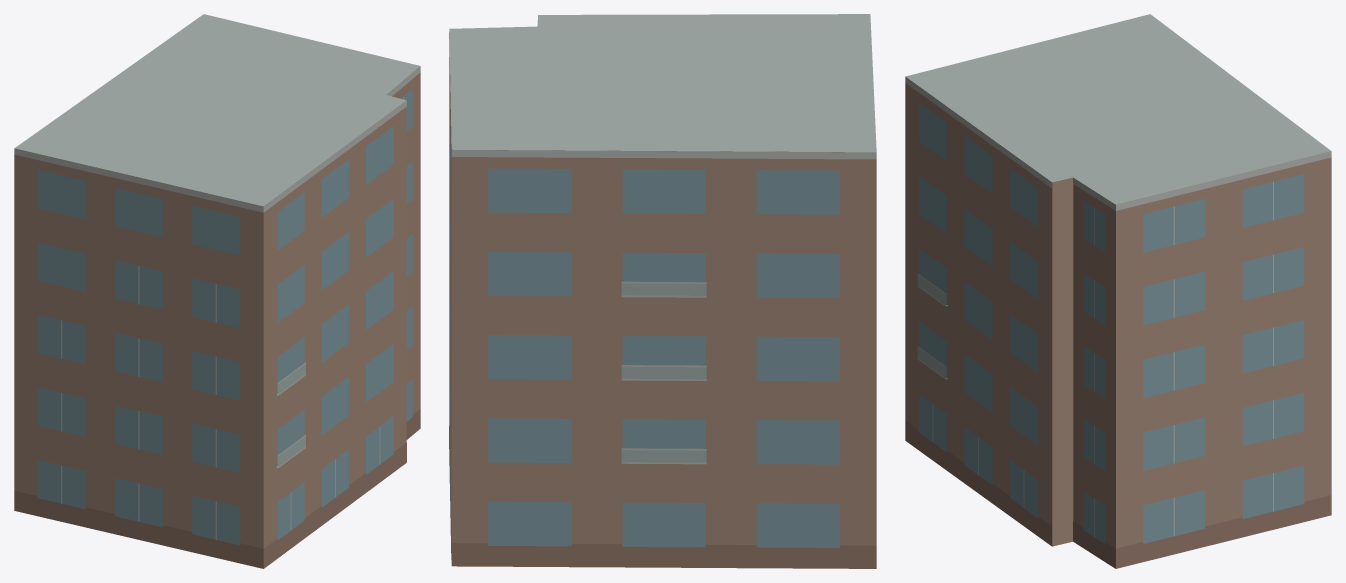
File: survey-upis-32856333.glb
3 renders of one model, left to right at view 1: azimuth 30°, elevation 25°; view 2: azimuth 150°, elevation 25°; view 3: azimuth 270°, elevation 25°, orthographic. The views are drawn at different scales.
Visible parts, largest first — view 1: survey-upis-32856333.tmp; view 2: survey-upis-32856333.tmp; view 3: survey-upis-32856333.tmp.
Boxes of the visible parts, x1,y1,x2,y2 form: survey-upis-32856333.tmp: [14, 14, 420, 568]; survey-upis-32856333.tmp: [449, 14, 876, 568]; survey-upis-32856333.tmp: [905, 14, 1331, 568].
Size of the model in its own units: 15.96 by 14.2 by 15.07.
